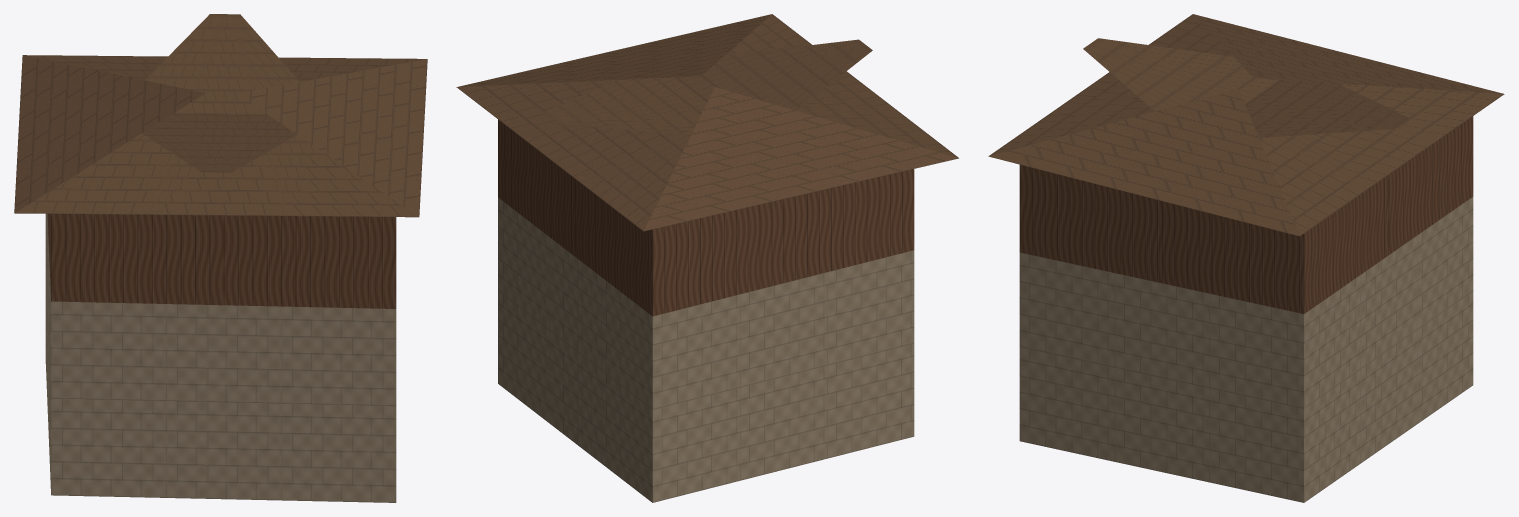
File: bld_c3_16_457.gltf
The picture shows the model from 3 angles, left to right: view 1: azimuth 30°, elevation 25°; view 2: azimuth 150°, elevation 25°; view 3: azimuth 270°, elevation 25°; orthographic projection. The views are drawn at different scales.
Parts seen in each view (by area): view 1: bld_c3_16_457; view 2: bld_c3_16_457; view 3: bld_c3_16_457.
Part boxes in pixels (x1,y1,x2,y2): bld_c3_16_457: (14, 14, 427, 502); bld_c3_16_457: (456, 14, 958, 502); bld_c3_16_457: (988, 14, 1504, 502).
Size of the model in its own units: 11.43 by 7.9 by 11.22.
Materials: 3 (3 with a texture image).
